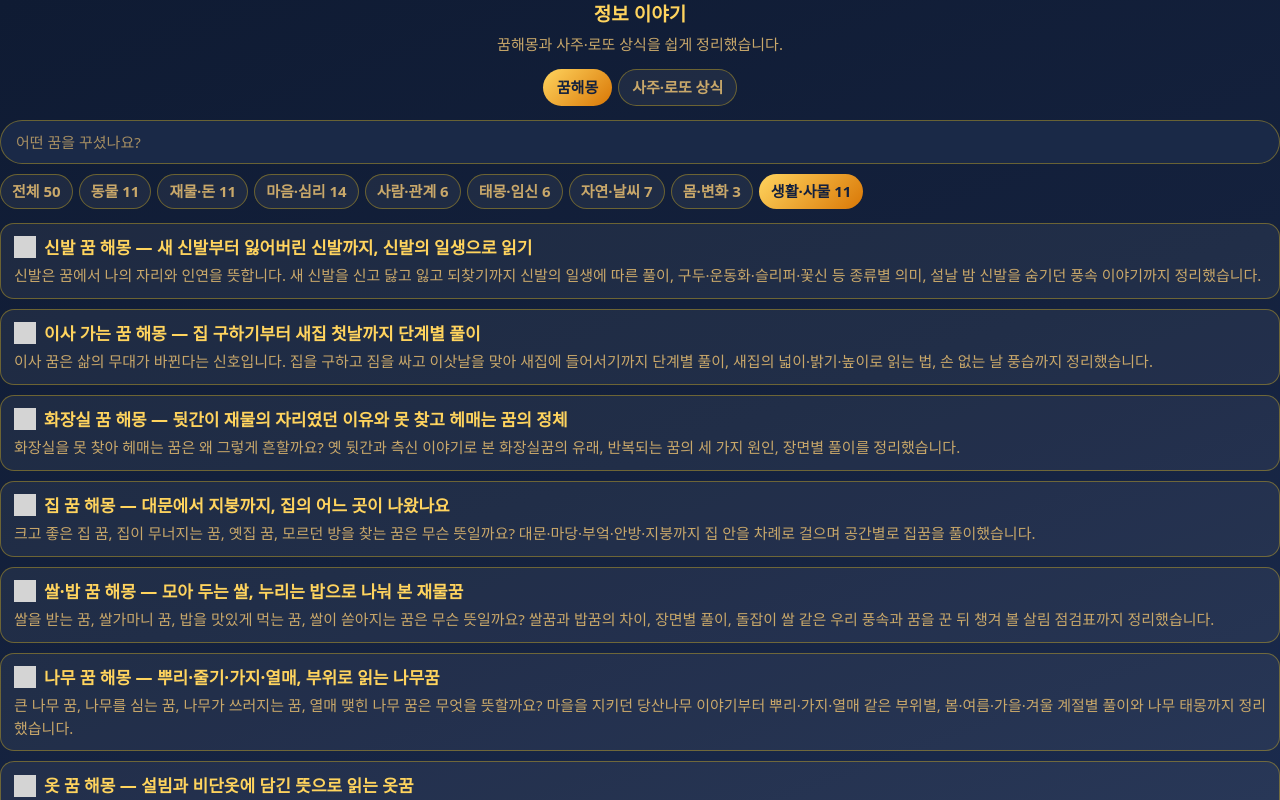
Test: 태그 안에 결과가 없으면 전체에서 찾기를 안내한다
In the search field named "글 검색": [640, 142] box [0, 120, 1279, 164], type "뱀꿈"
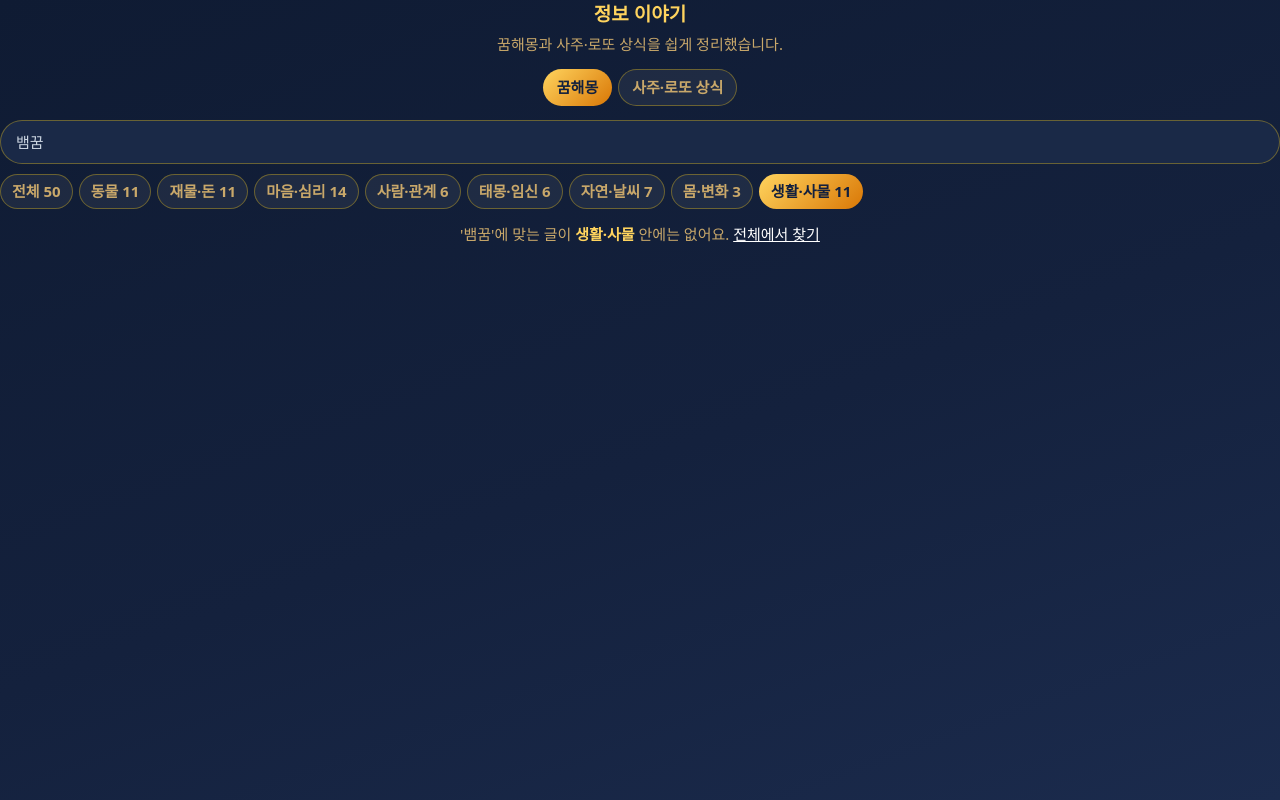
Check: no list items are shown
Click the button "전체에서 찾기": [777, 234] box [733, 222, 820, 245]
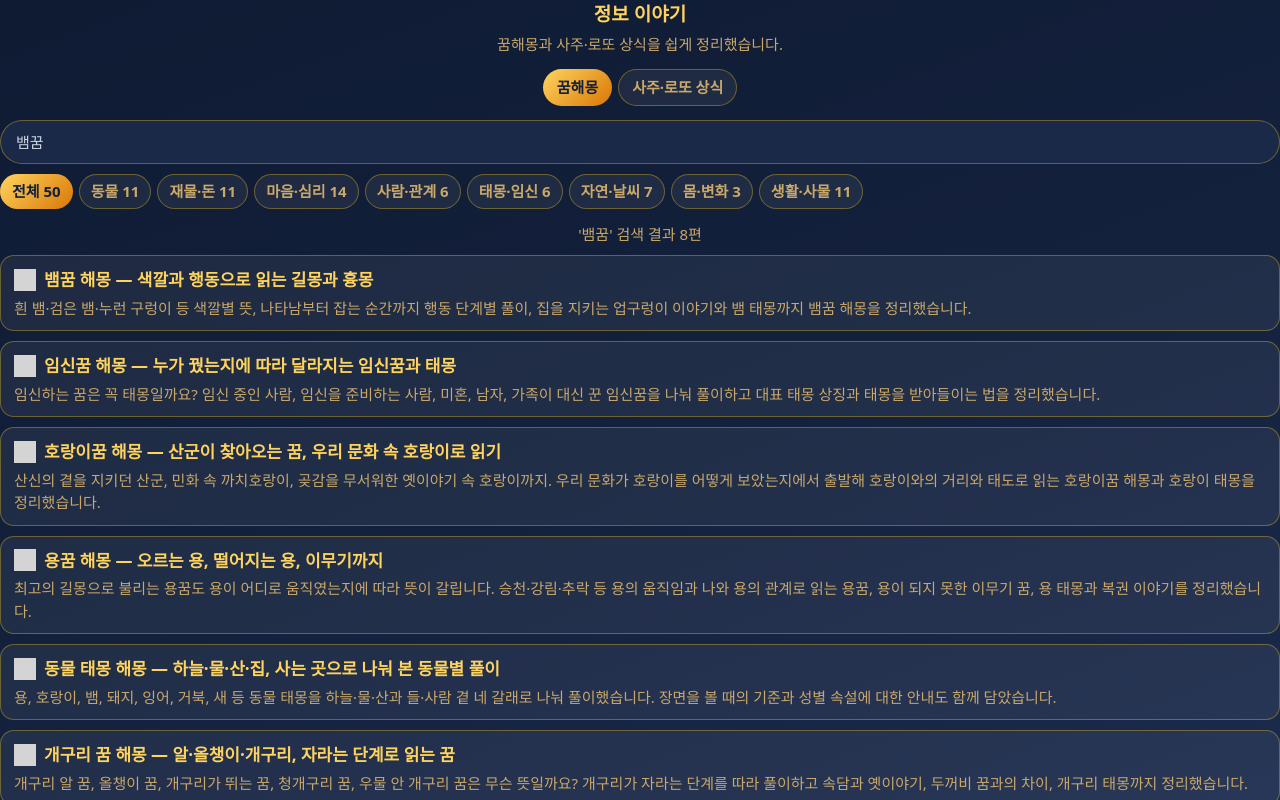
Check: the list item that starts with "뱀꿈 해몽 — 색깔과 행동으로 읽는 길몽과 흉몽" is shown, box [0, 255, 1279, 331]
